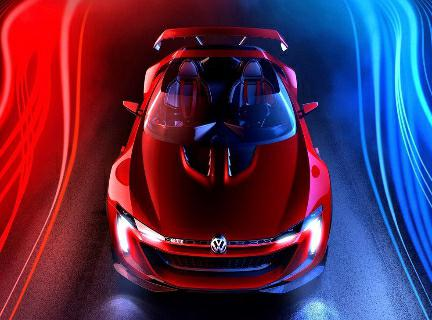大众-夏朗: (106, 21, 336, 300)
